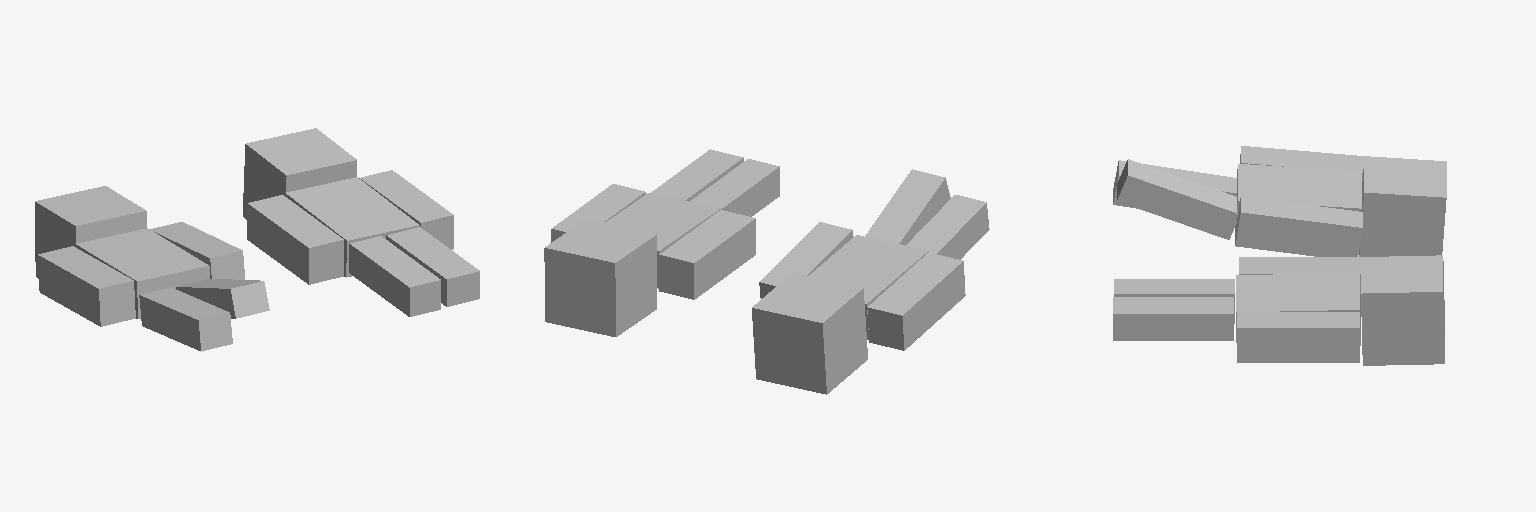
Rendered from steve_000031.obj.
The picture shows the model from 3 angles: view 1: azimuth 30°, elevation 25°; view 2: azimuth 150°, elevation 25°; view 3: azimuth 270°, elevation 25°; orthographic projection.
Parts seen in each view (by area): view 1: Cube.001_Cube.002, Cube_Cube.001; view 2: Cube_Cube.001, Cube.001_Cube.002; view 3: Cube.001_Cube.002, Cube_Cube.001.
Part boxes in pixels (x1,y1,x2,y2): Cube.001_Cube.002: (243, 128, 479, 316); Cube_Cube.001: (35, 186, 269, 351); Cube_Cube.001: (752, 169, 989, 394); Cube.001_Cube.002: (544, 149, 779, 336); Cube.001_Cube.002: (1113, 255, 1444, 365); Cube_Cube.001: (1113, 146, 1446, 256).
Bounding box in the file's own units: 6.55 × 1.69 × 5.37.